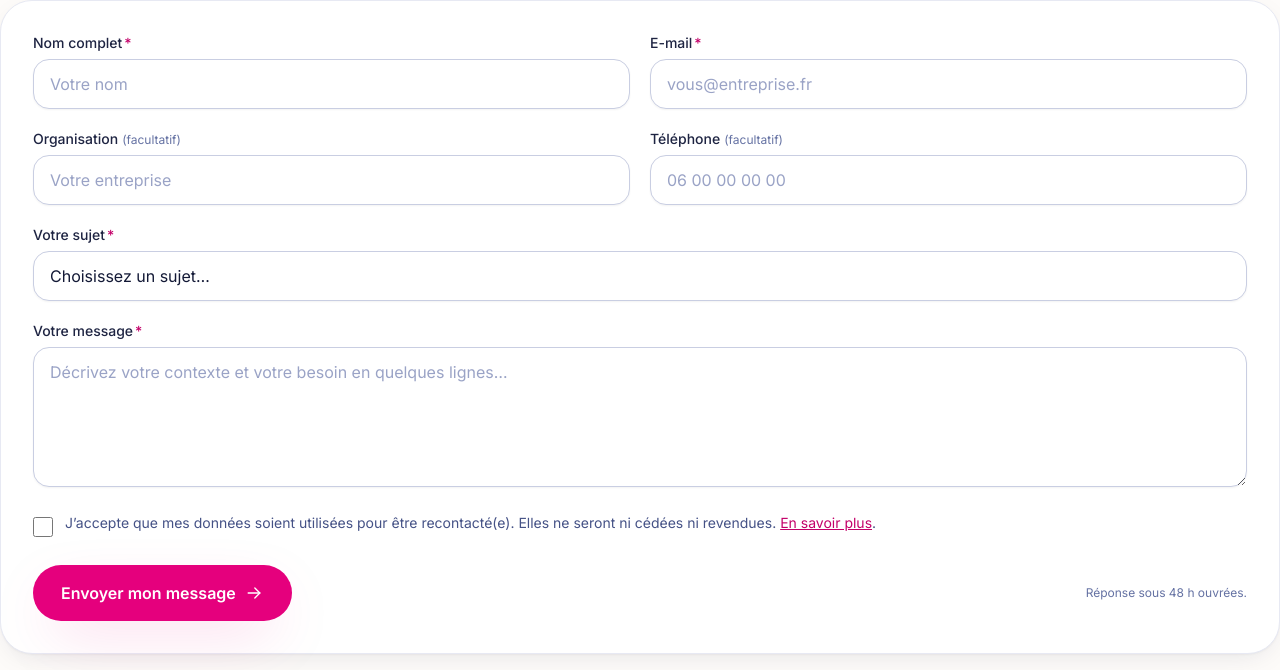
Test: ContactForm › affiche des erreurs de validation quand le formulaire est vide
Click the button "Envoyer mon message": click(162, 593) [33,565,292,621]
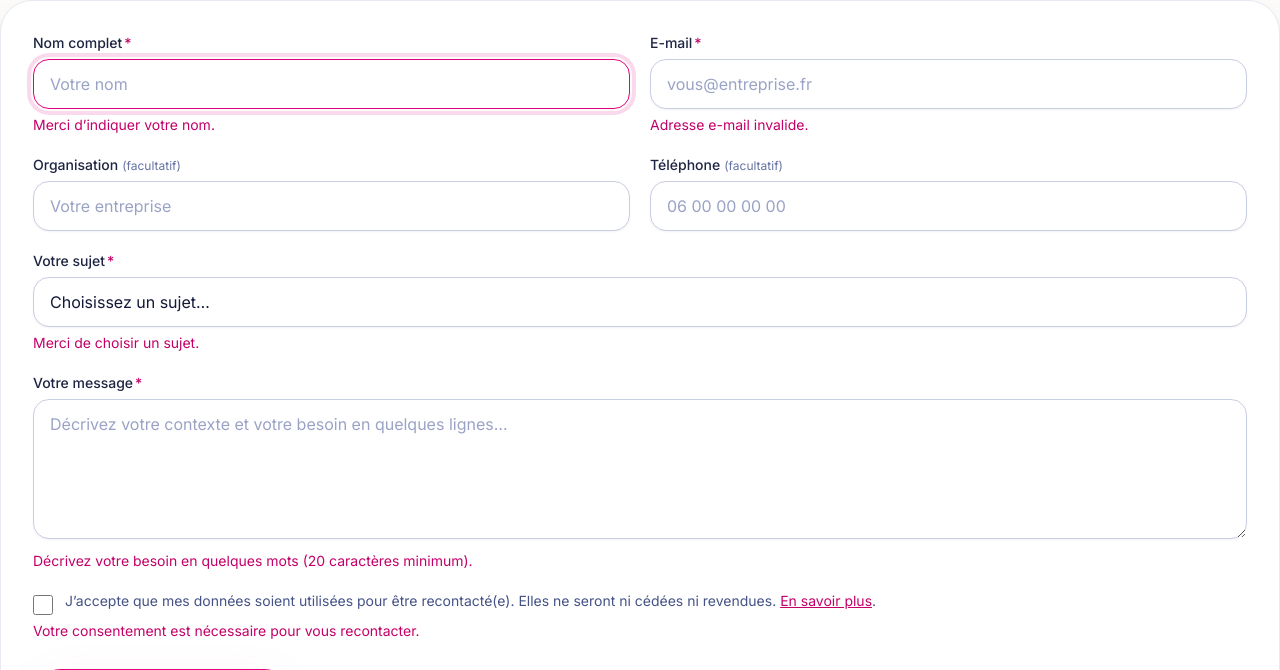
Now the text "Merci d’indiquer votre nom." is shown, box [33,116,215,133]
Now the text "Merci de choisir un sujet." is shown, box [33,334,199,351]
